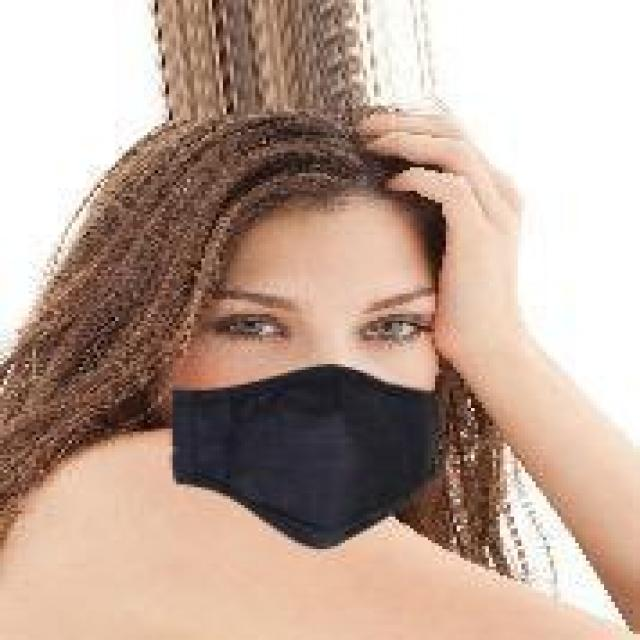mask: (126, 73, 510, 534)
